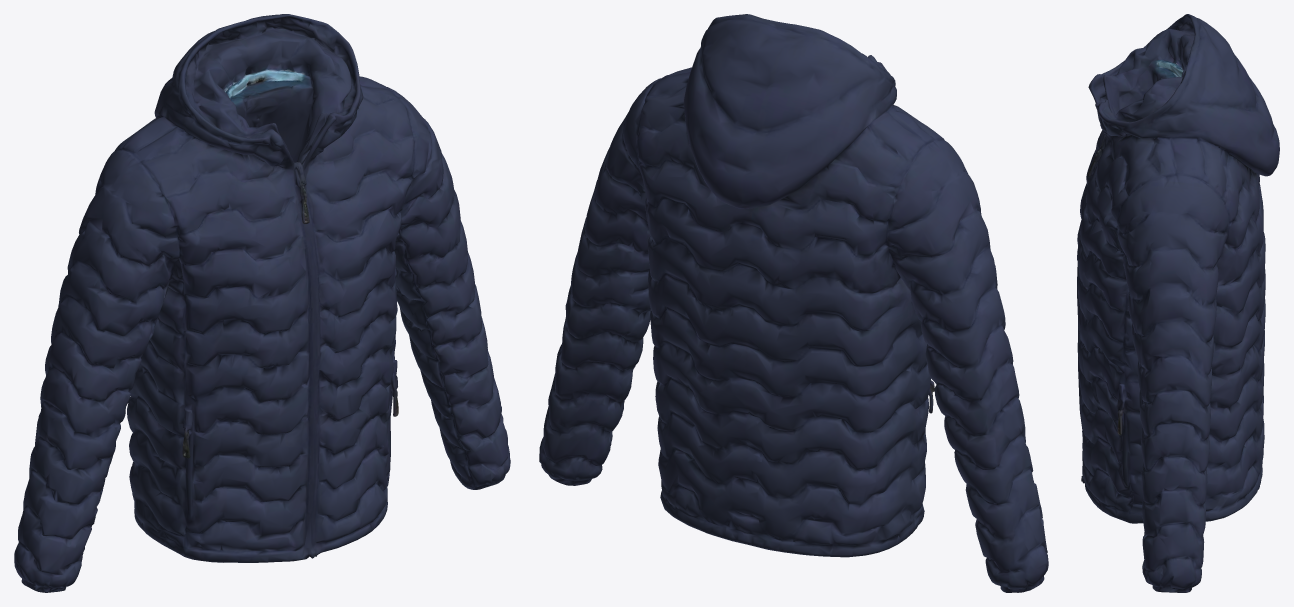
The picture shows the model from 3 angles, left to right: view 1: azimuth 30°, elevation 25°; view 2: azimuth 150°, elevation 25°; view 3: azimuth 270°, elevation 25°; orthographic projection. The views are drawn at different scales.
Visible parts, largest first — view 1: tripo_node_d174cab8-8e07-4acc-b701-b1392199860d; view 2: tripo_node_d174cab8-8e07-4acc-b701-b1392199860d; view 3: tripo_node_d174cab8-8e07-4acc-b701-b1392199860d.
Part boxes in pixels (x1,y1,x2,y2): tripo_node_d174cab8-8e07-4acc-b701-b1392199860d: [14, 14, 510, 592]; tripo_node_d174cab8-8e07-4acc-b701-b1392199860d: [539, 14, 1048, 592]; tripo_node_d174cab8-8e07-4acc-b701-b1392199860d: [1077, 14, 1279, 592].
Bounding box in the file's own units: 0.9999 × 0.9927 × 0.3936.
Materials: 1 (1 with a texture image).
